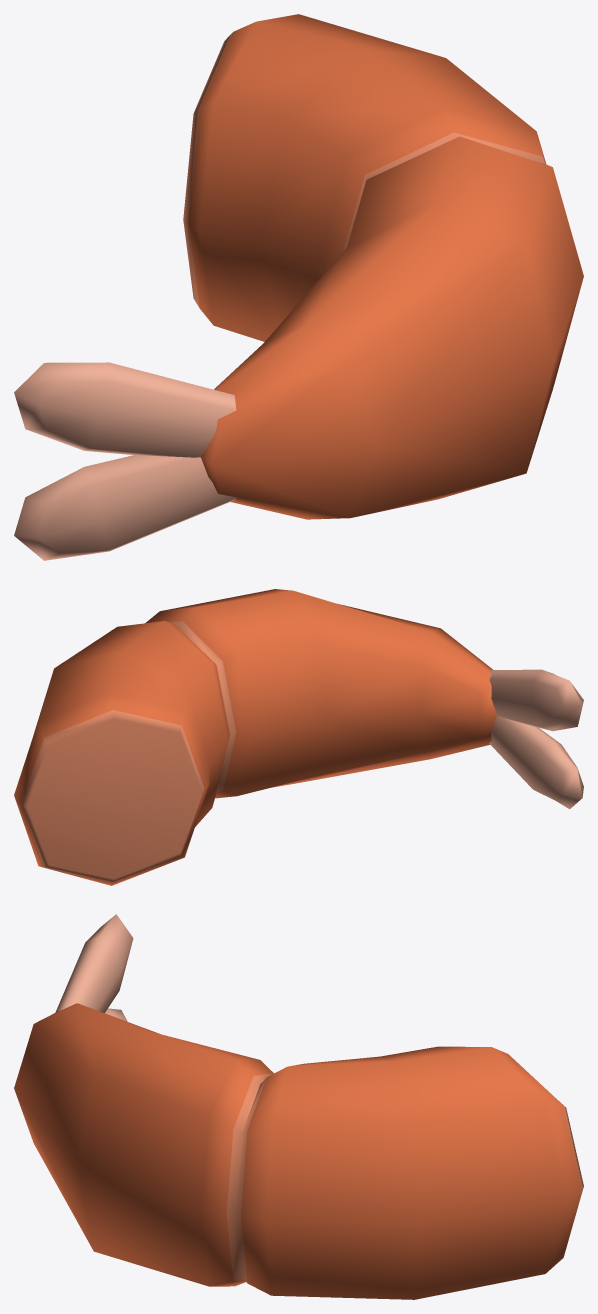
The model's file is Shrimp_1_Half_2.fbx.
3 renders of one model, top to bottom at view 1: azimuth 30°, elevation 25°; view 2: azimuth 150°, elevation 25°; view 3: azimuth 270°, elevation 25°, orthographic. The views are drawn at different scales.
Parts seen in each view (by area): view 1: Shrimp_1_Half_2; view 2: Shrimp_1_Half_2; view 3: Shrimp_1_Half_2.
Part boxes in pixels (box(x1,y1,x2,y2)): Shrimp_1_Half_2: box(14, 14, 583, 560); Shrimp_1_Half_2: box(14, 589, 583, 885); Shrimp_1_Half_2: box(14, 914, 583, 1299).
Size of the model in its own units: 8.8 by 3.95 by 8.72.
